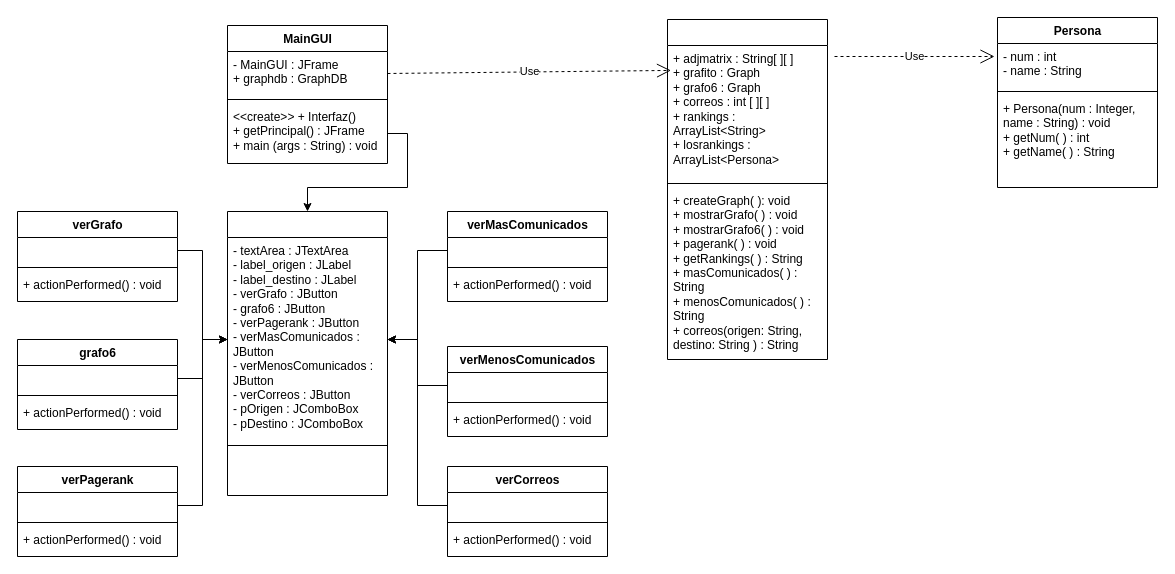
Some shapes in this 1175 by 574 pixel diagram are drawn without their labels. The shapes that lost their labels are listed below. From the top down, each one's box as (x1, y1, x2, y2) in pixels, then its label:
(666, 18, 828, 360): GraphDB
(226, 210, 388, 496): jPanel1
